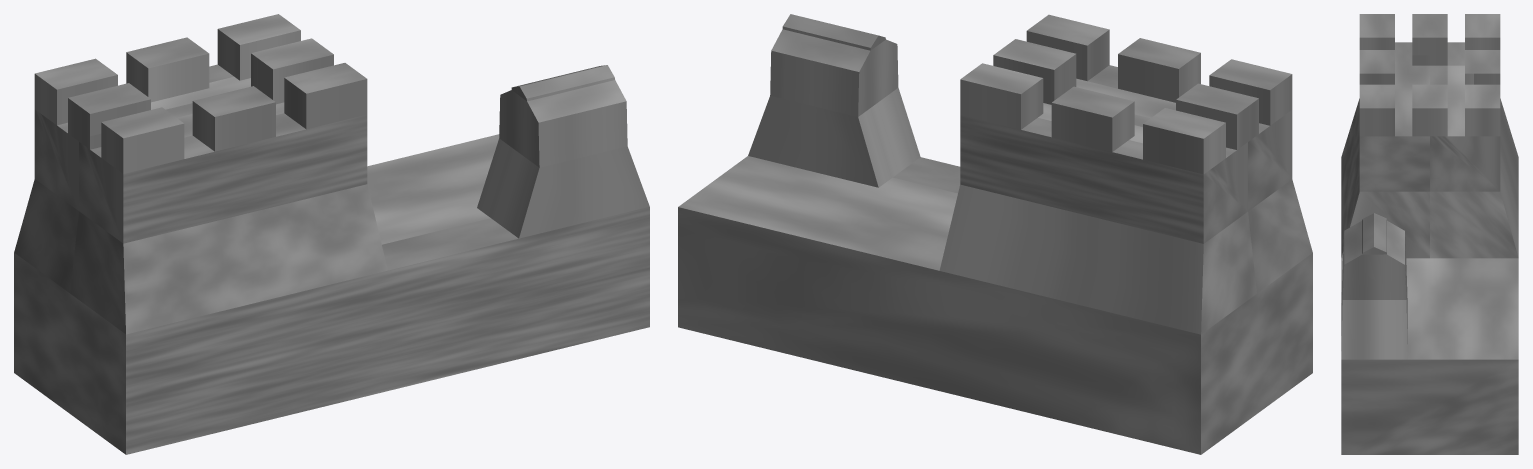
File: iron_smelter.obj
3 views of the same model, side by side, from view 1: azimuth 30°, elevation 25°; view 2: azimuth 150°, elevation 25°; view 3: azimuth 270°, elevation 25° (orthographic). The views are drawn at different scales.
Visible parts, largest first — view 1: Cube.001; view 2: Cube.001; view 3: Cube.001.
Boxes of the visible parts, x1=… form: Cube.001: x1=14, y1=14, x2=649, y2=454; Cube.001: x1=678, y1=14, x2=1312, y2=454; Cube.001: x1=1341, y1=14, x2=1518, y2=454.
Bounding box in the file's own units: 5.4 × 3.01 × 2.
